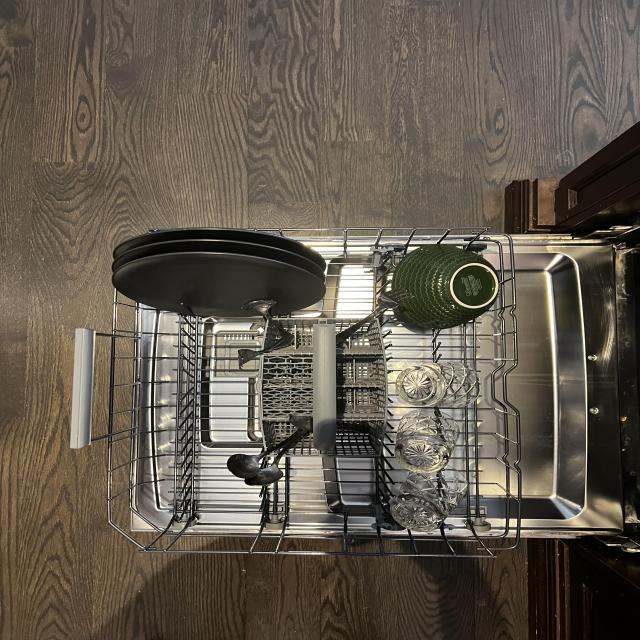Bowl: (394, 240, 504, 330)
Fork: (337, 287, 415, 347), (237, 343, 288, 369)
Glass: (390, 466, 471, 531), (394, 408, 464, 474), (397, 358, 484, 408)
Plate: (109, 248, 328, 318)
Spoon: (227, 423, 312, 480), (243, 430, 310, 488), (244, 296, 292, 342)
